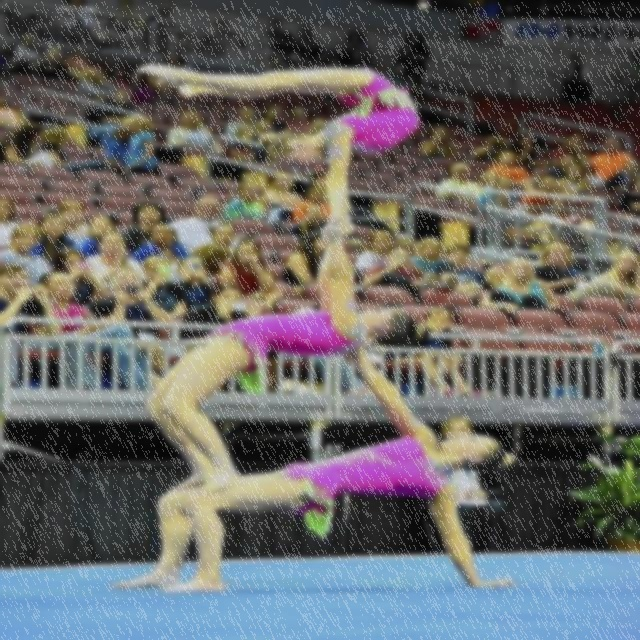pessoa: (104, 331, 521, 596), (140, 211, 436, 497), (129, 58, 426, 248), (28, 270, 162, 397), (86, 266, 176, 340), (417, 308, 482, 397), (476, 258, 563, 314), (34, 270, 105, 336), (178, 282, 252, 341), (164, 108, 226, 178), (55, 122, 126, 180), (361, 245, 429, 304), (81, 86, 158, 137), (0, 122, 59, 188), (165, 196, 229, 256), (167, 255, 223, 322), (0, 222, 55, 287), (141, 254, 191, 323), (50, 248, 109, 306), (254, 16, 309, 78), (387, 28, 437, 96), (223, 104, 288, 156), (74, 66, 138, 118), (534, 242, 594, 296), (220, 241, 276, 296), (85, 232, 146, 282), (254, 102, 308, 158), (576, 250, 640, 294), (435, 161, 481, 222), (280, 229, 328, 287), (257, 171, 310, 223), (119, 203, 168, 258), (479, 150, 541, 192), (120, 114, 162, 176), (552, 132, 600, 184), (536, 198, 595, 240), (131, 224, 191, 264), (289, 22, 330, 79), (284, 205, 328, 258), (524, 156, 580, 197), (5, 32, 50, 78), (226, 127, 272, 172), (602, 158, 640, 212), (588, 136, 633, 181), (28, 214, 76, 256), (353, 228, 393, 277), (72, 215, 117, 258), (0, 198, 25, 266), (224, 183, 268, 221), (618, 46, 640, 122), (336, 29, 376, 69), (562, 52, 594, 100), (59, 198, 92, 242), (443, 244, 482, 281), (292, 186, 331, 223), (409, 236, 446, 272), (36, 130, 72, 167), (419, 126, 456, 160), (110, 66, 156, 88), (256, 119, 290, 148), (508, 134, 538, 166), (470, 132, 506, 157), (482, 257, 513, 285), (206, 222, 238, 246), (0, 102, 26, 130), (287, 106, 314, 132), (310, 166, 326, 187)
